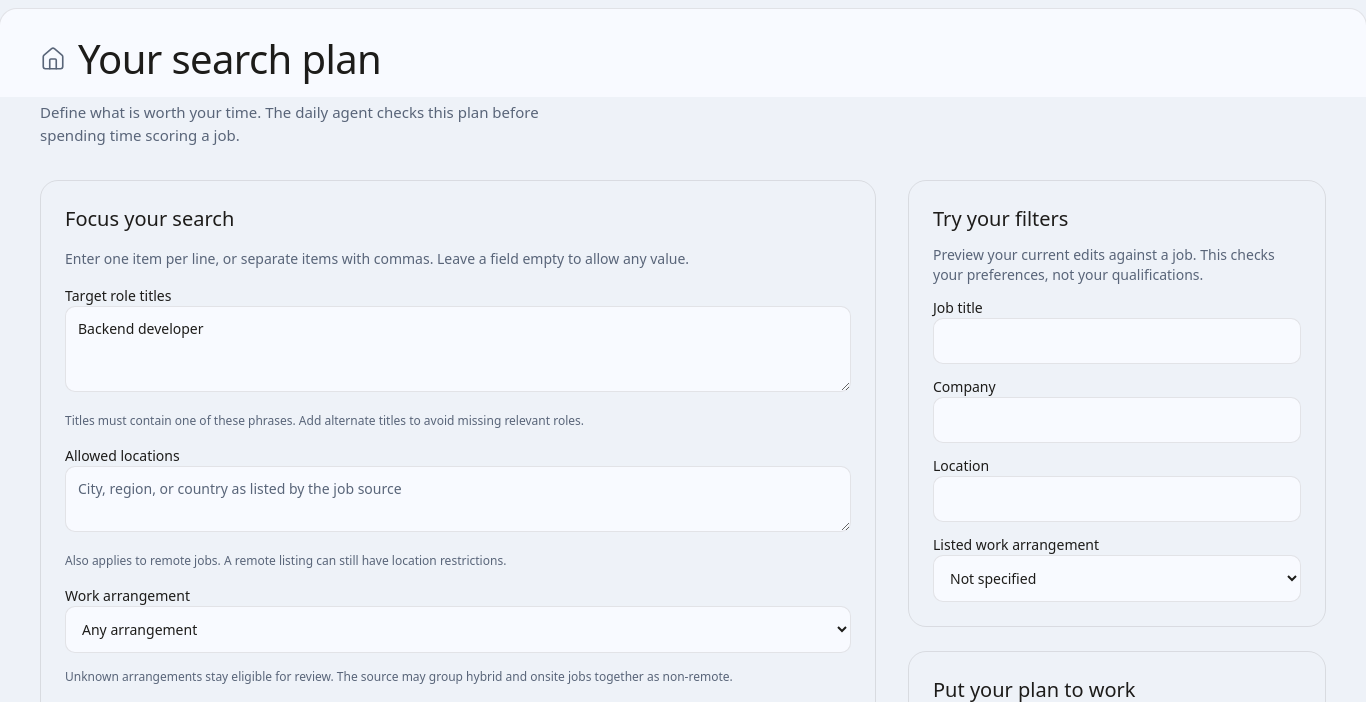
Test: shows a save failure and can preview mismatches without saving
Type "Designer" into the field labelled "Job title".
click(1117, 340); type("Designer")  # box 933,318 -> 1301,364
(page scrolled)
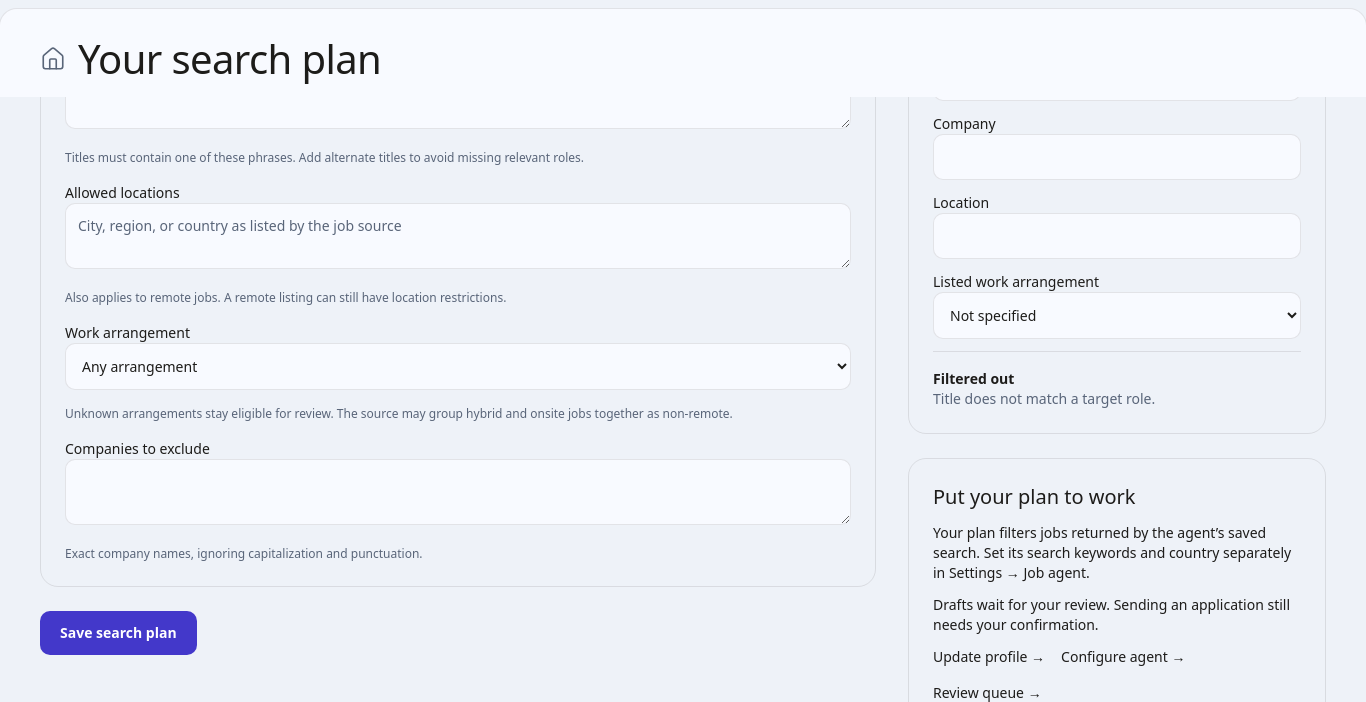
Now the text "Filtered out" is shown, box 933,368 -> 1014,388
Click the button "Save search plan".
click(118, 632)  # box 40,610 -> 197,654
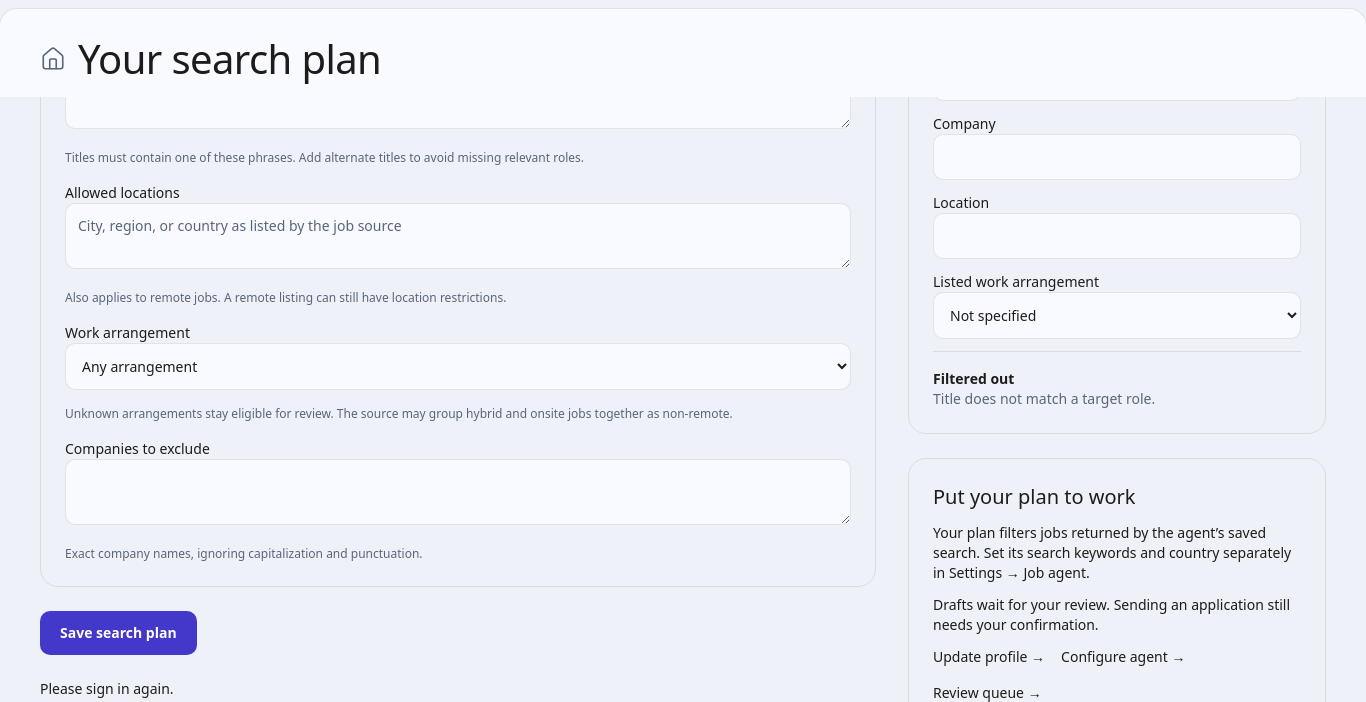
Now the text "Please sign in again." is shown, box 40,678 -> 174,698
